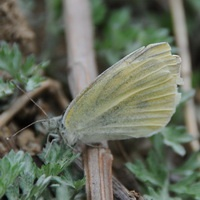insect: (0, 42, 180, 154)
